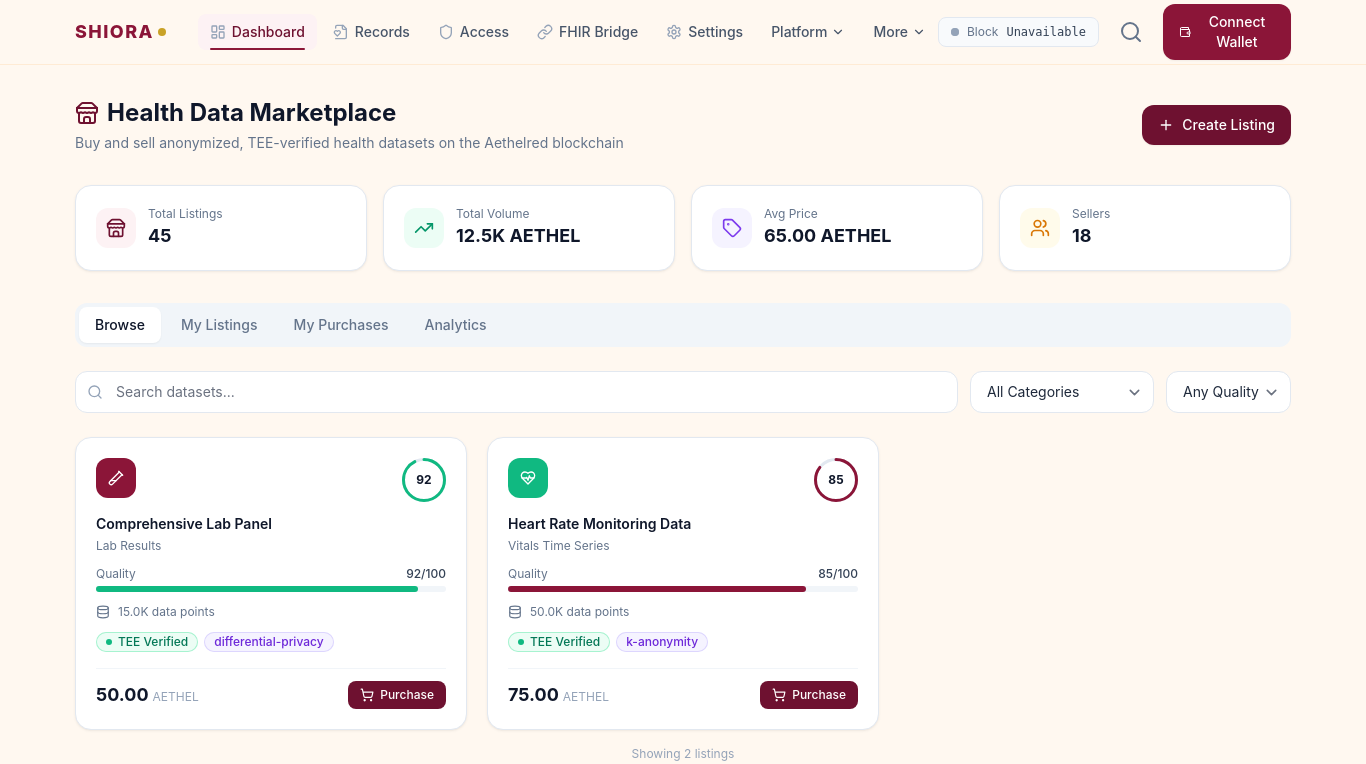
Scenario: MarketplacePage › switches to My Purchases tab and shows purchase table
Click the tab "My Purchases".
click(341, 325)  # box left=278, top=307, right=404, bottom=343
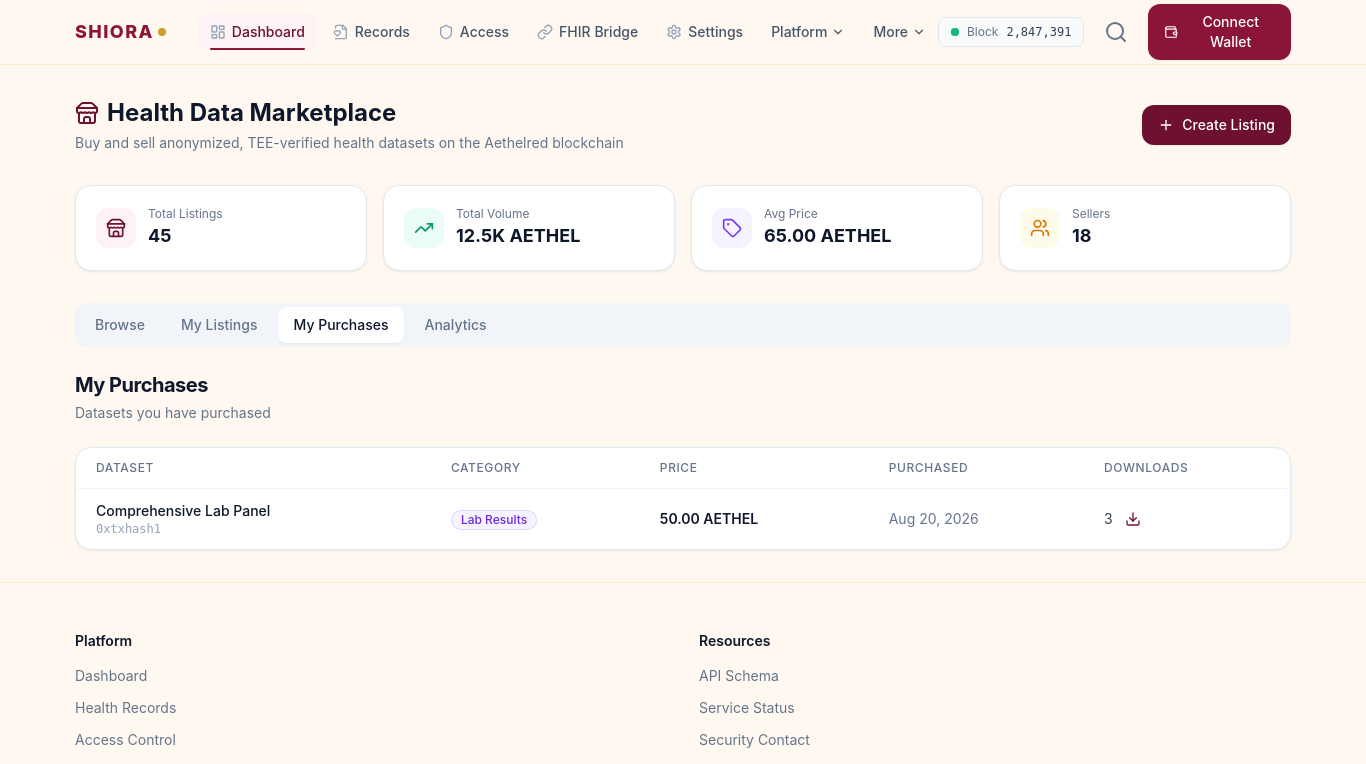
Now the text "Datasets you have purchased" is shown, box left=75, top=403, right=271, bottom=423
Now the column heading "Dataset" is shown, box left=76, top=448, right=431, bottom=488
Now the column heading "Category" is shown, box left=431, top=448, right=640, bottom=488
